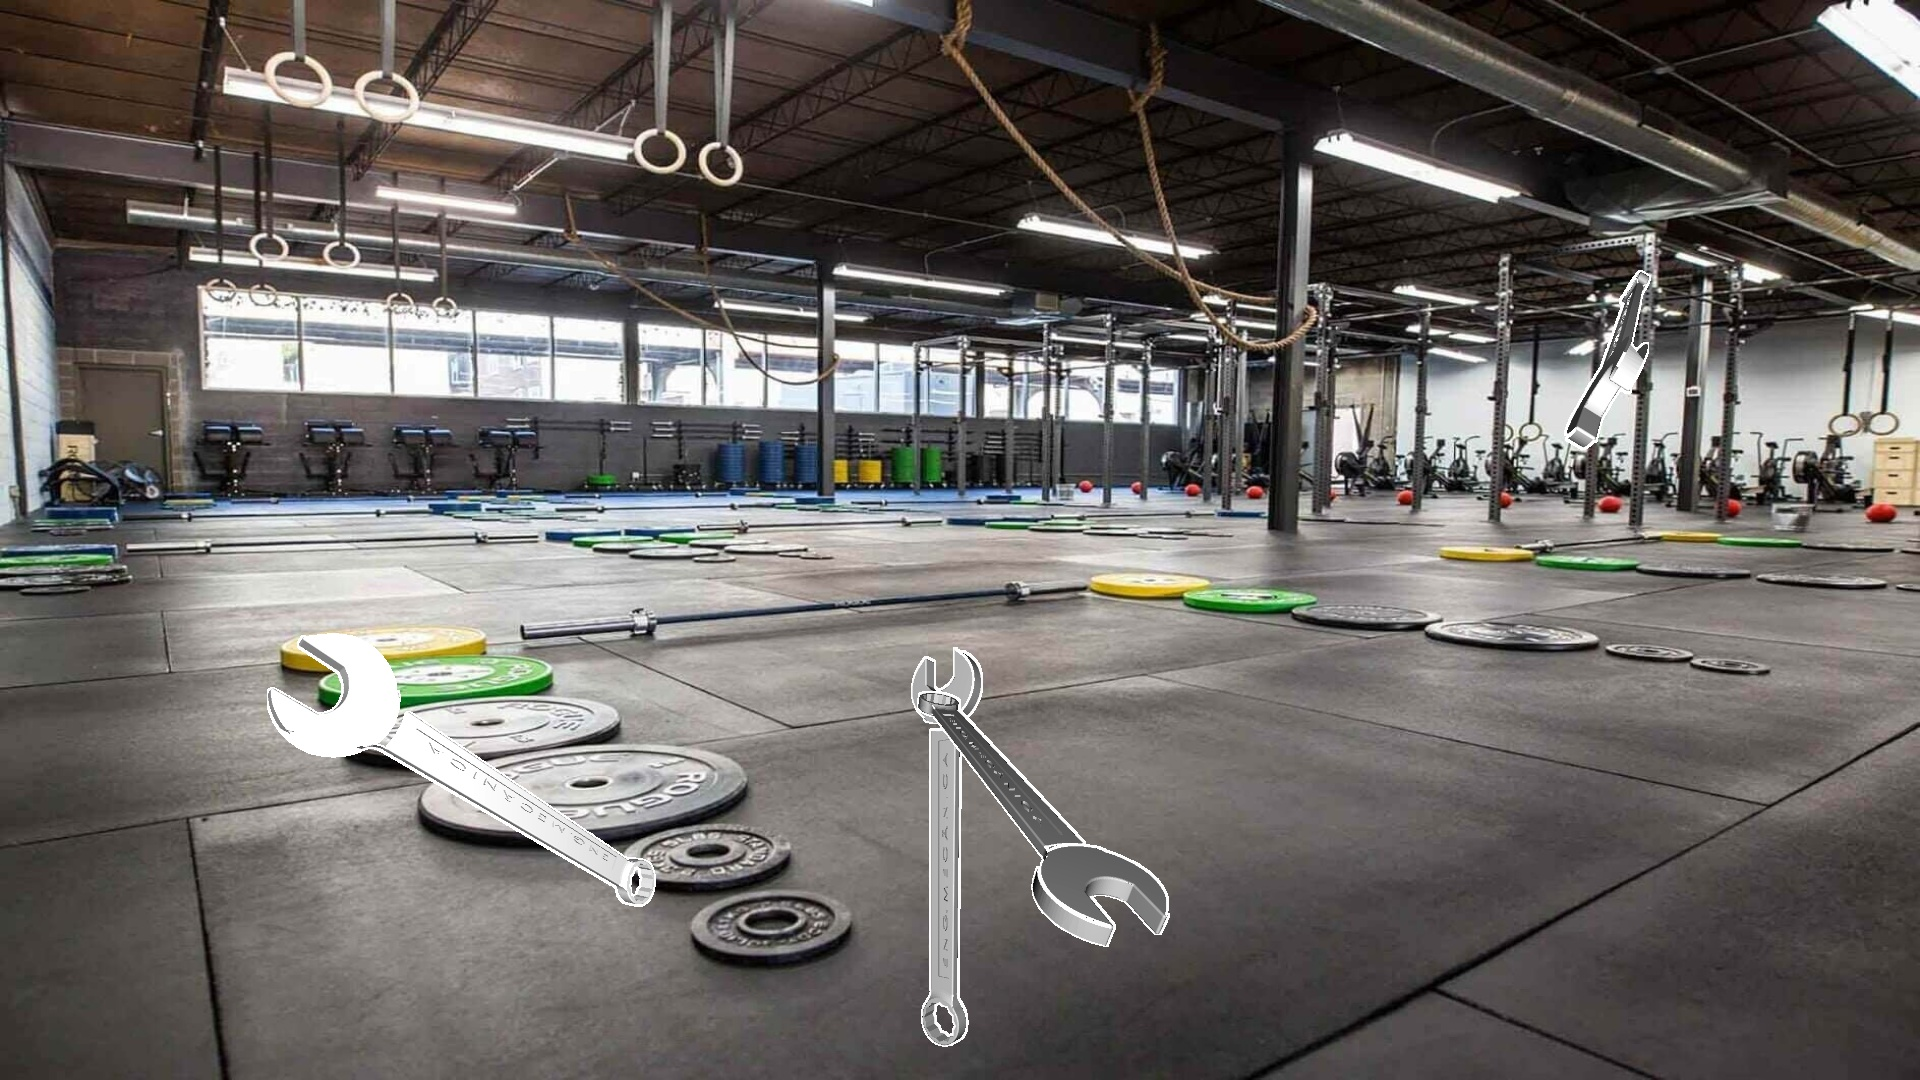Mixed Key: (266, 633, 655, 906), (916, 691, 1168, 945), (911, 647, 982, 1046), (1564, 270, 1650, 448)
